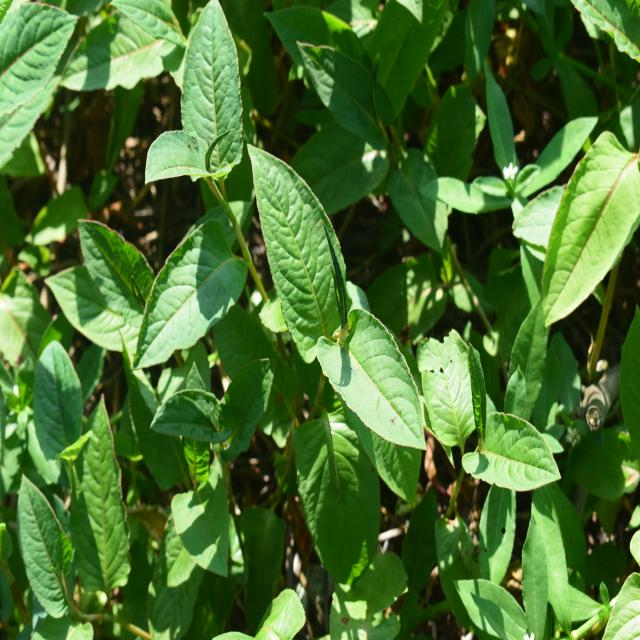Chinese_knotweed: (243, 142, 430, 450), (132, 21, 276, 368)
